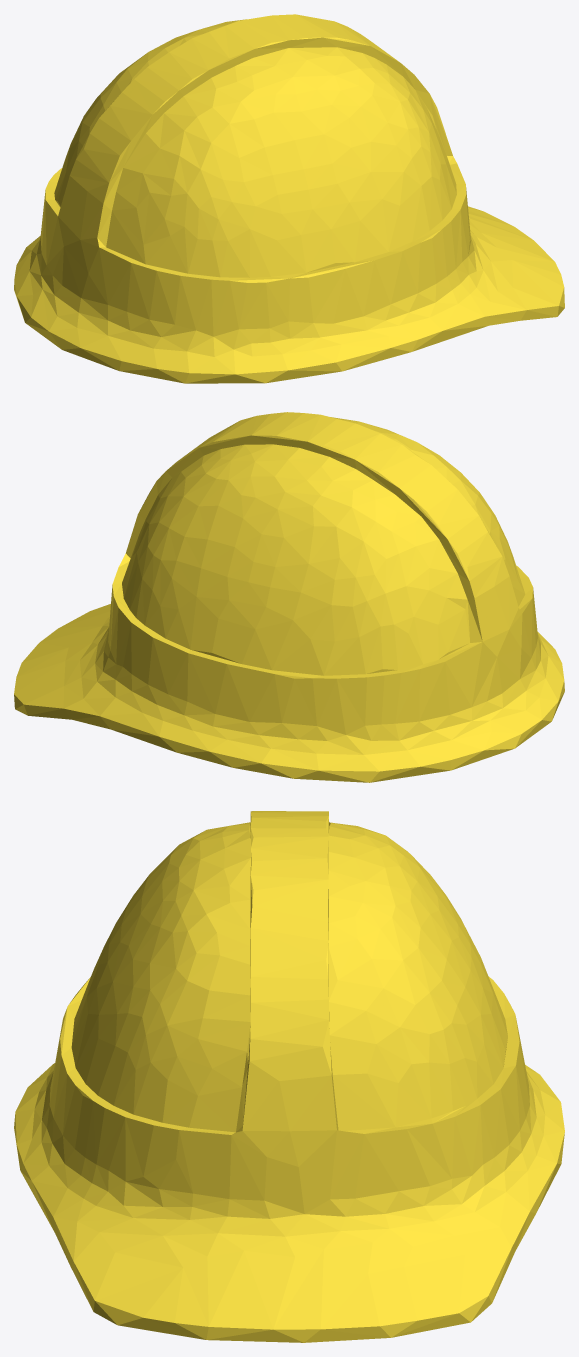
Rendered from SafetyHelmet.dae.
The picture shows the model from 3 angles, top to bottom: view 1: azimuth 30°, elevation 25°; view 2: azimuth 150°, elevation 25°; view 3: azimuth 270°, elevation 25°; orthographic projection. The views are drawn at different scales.
Parts seen in each view (by area): view 1: safetyhat; view 2: safetyhat; view 3: safetyhat.
Part boxes in pixels (x1=…): safetyhat: x1=14, y1=14, x2=564, y2=383; safetyhat: x1=14, y1=412, x2=564, y2=782; safetyhat: x1=14, y1=811, x2=564, y2=1342.
Bounding box in the file's own units: 0.2673 × 0.2146 × 0.1486.
